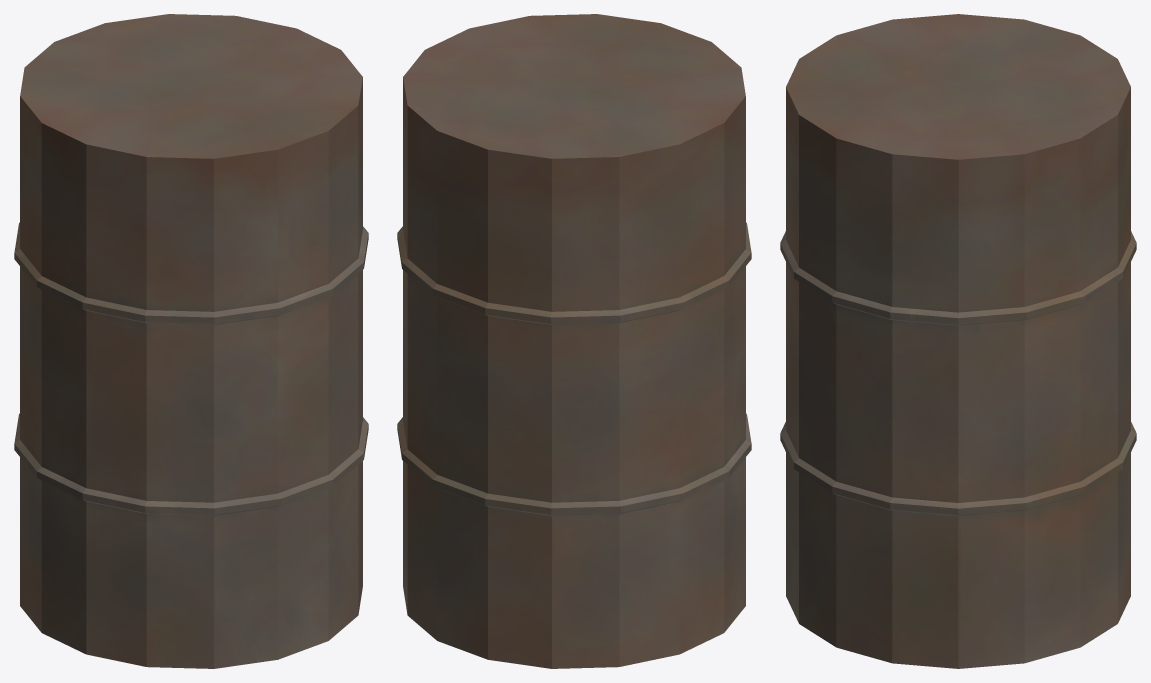
Rendered from barrel.fbx.
The picture shows the model from 3 angles, left to right: view 1: azimuth 30°, elevation 25°; view 2: azimuth 150°, elevation 25°; view 3: azimuth 270°, elevation 25°; orthographic projection.
Visible parts, largest first — view 1: Cylinder; view 2: Cylinder; view 3: Cylinder.
Part boxes in pixels (box(x1,y1,x2,y2)): Cylinder: box(14, 14, 368, 668); Cylinder: box(397, 14, 751, 668); Cylinder: box(780, 14, 1136, 668).
Size of the model in its own units: 207 by 326 by 207.
Materials: 1 (1 with a texture image).
